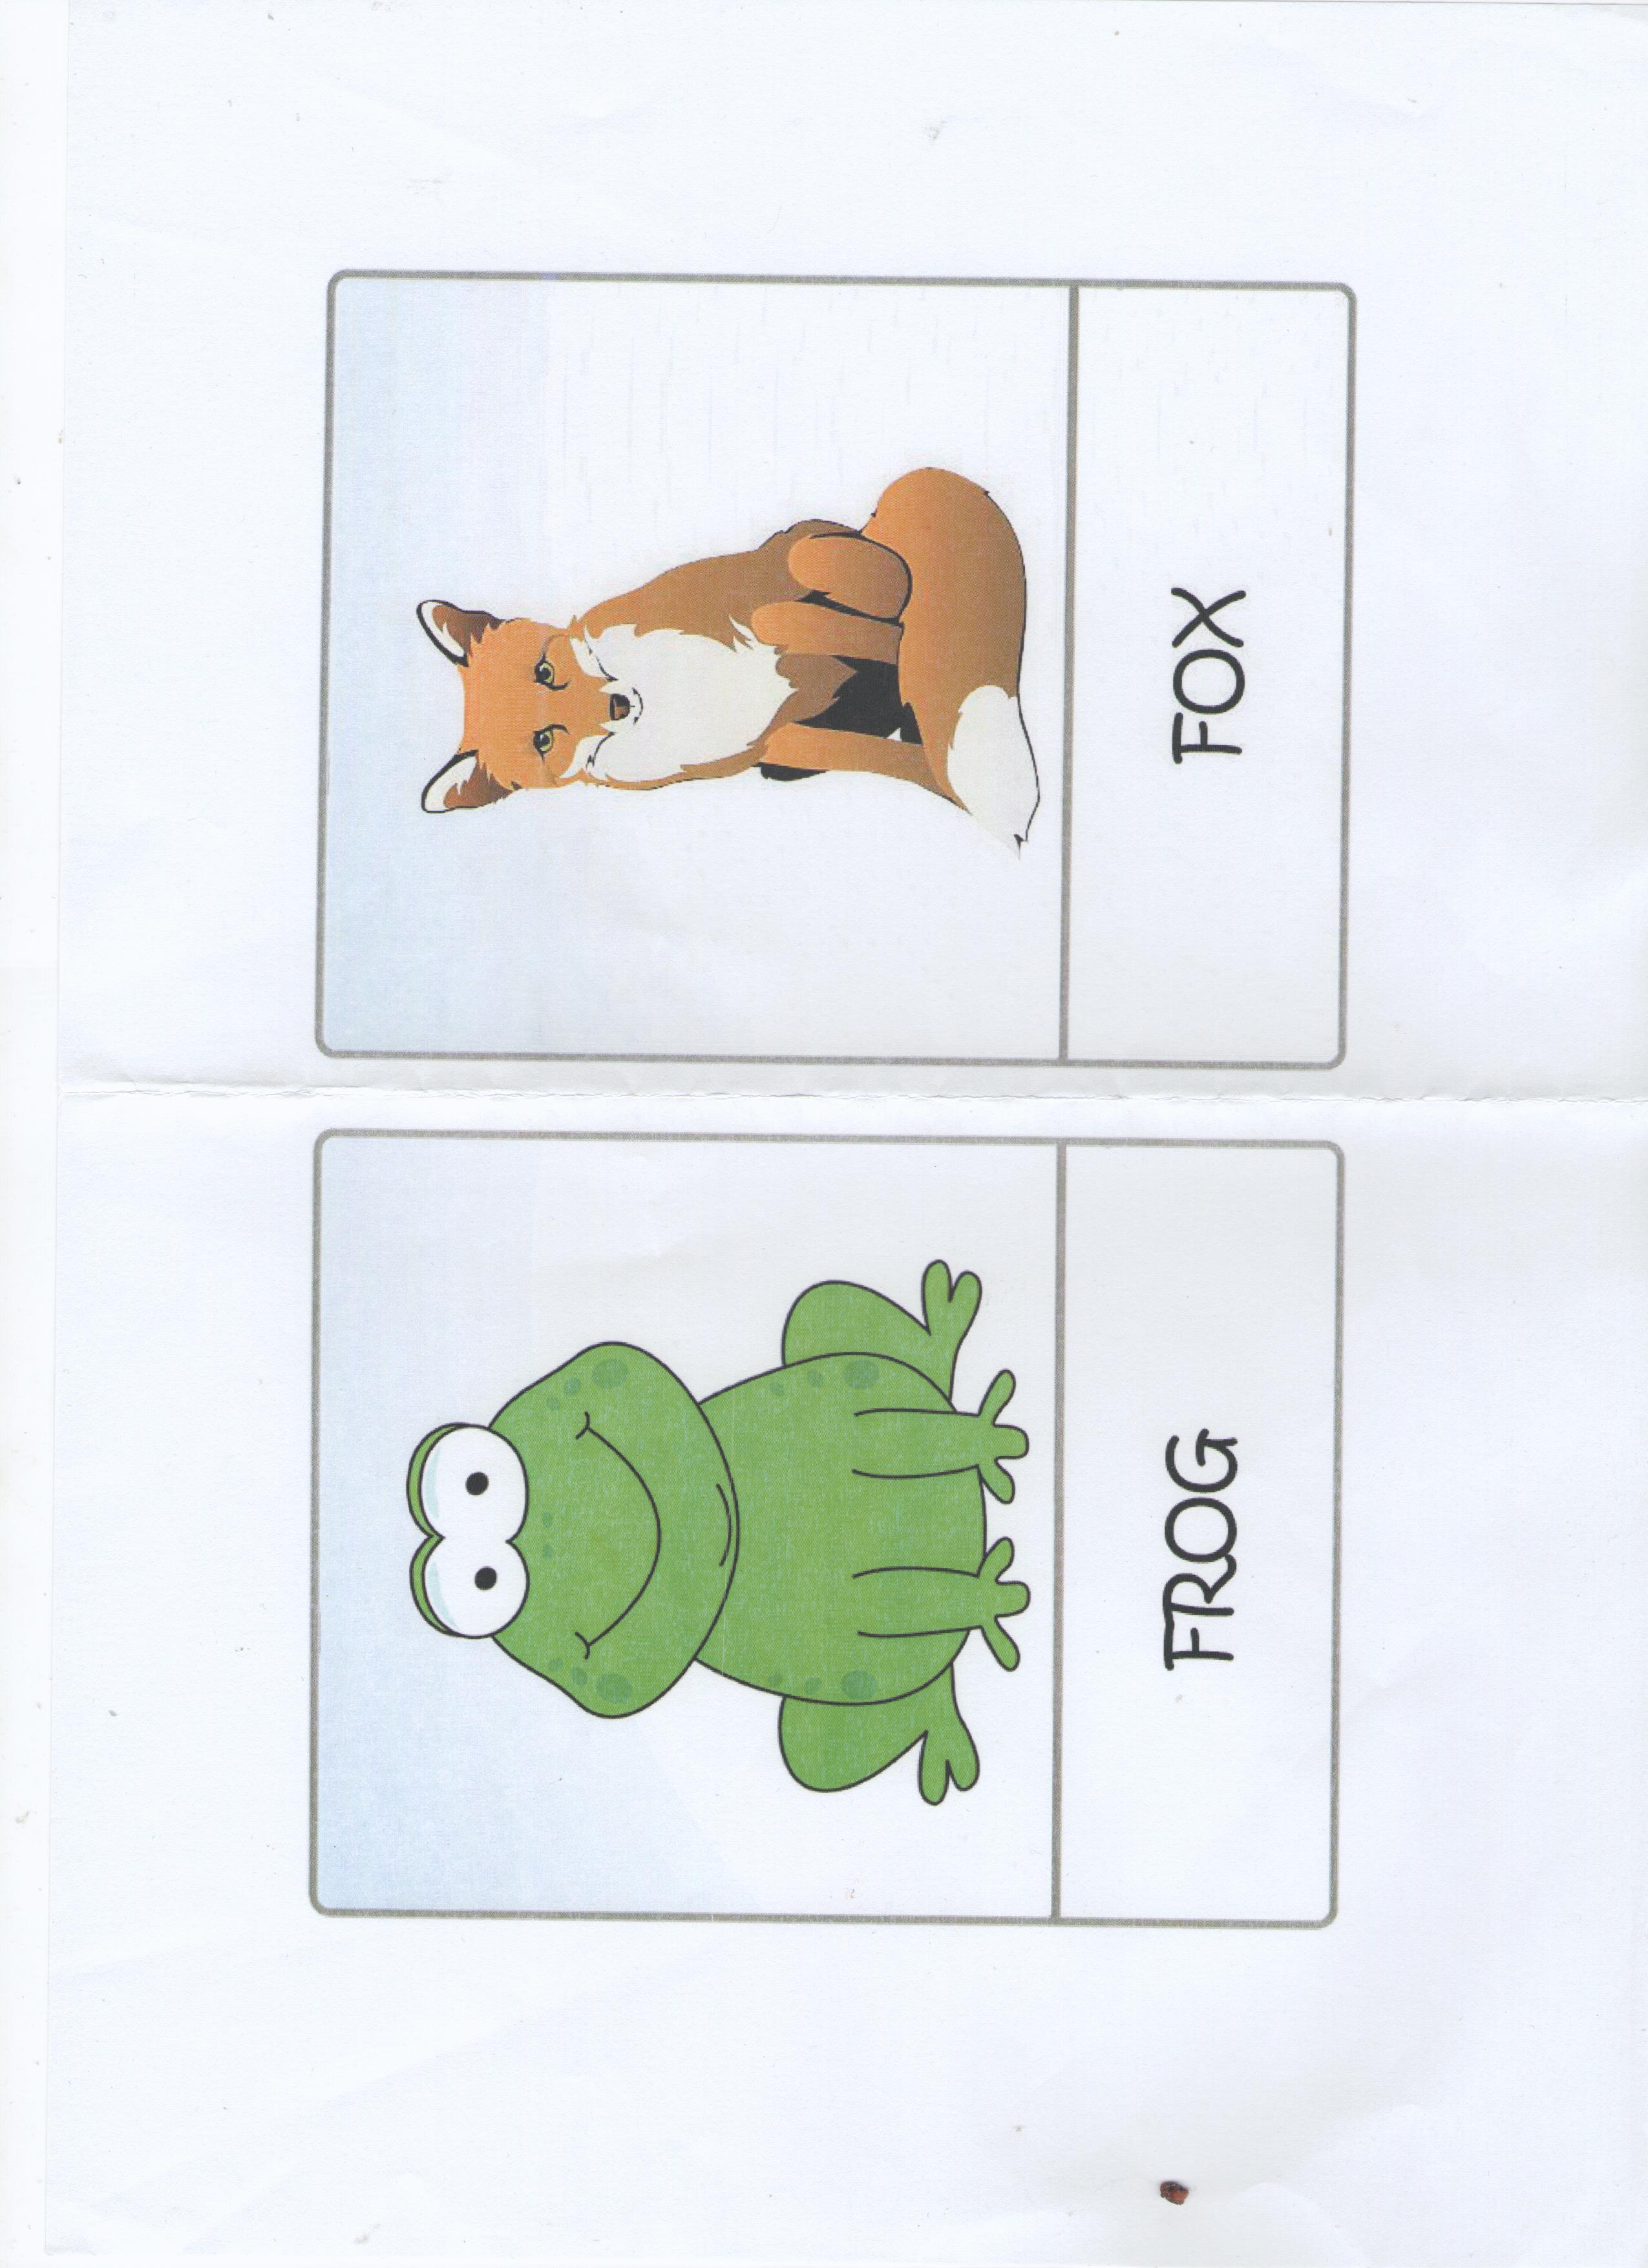rana: (350, 1193, 1300, 1862)
volpe: (345, 301, 1338, 1014)
